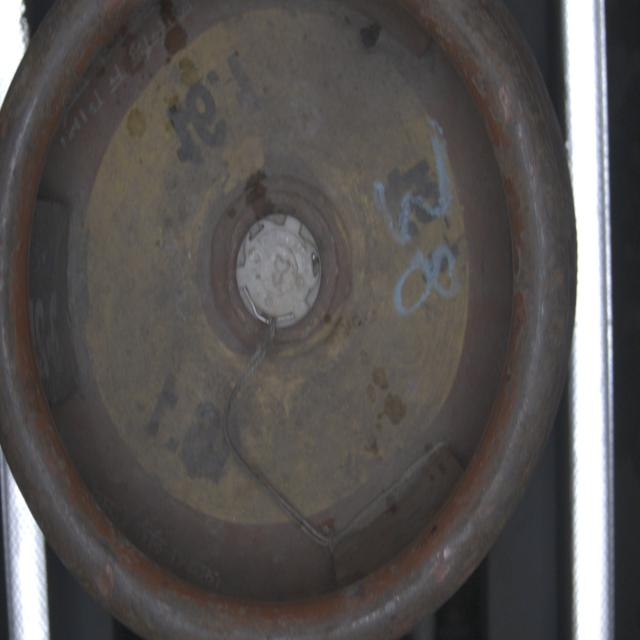Cap: (234, 209, 322, 328)
